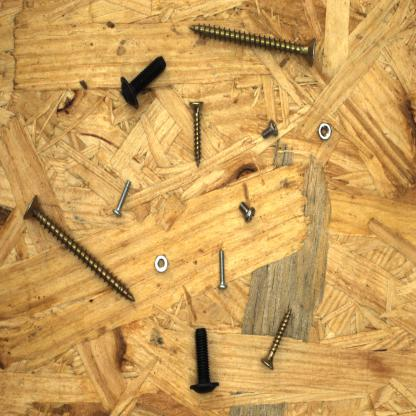screw: (20, 190, 139, 306), (185, 19, 321, 70), (116, 53, 170, 111), (185, 323, 222, 398), (258, 303, 296, 372), (185, 95, 209, 172), (110, 177, 132, 220), (213, 244, 231, 292), (234, 194, 258, 228), (258, 116, 281, 146)
